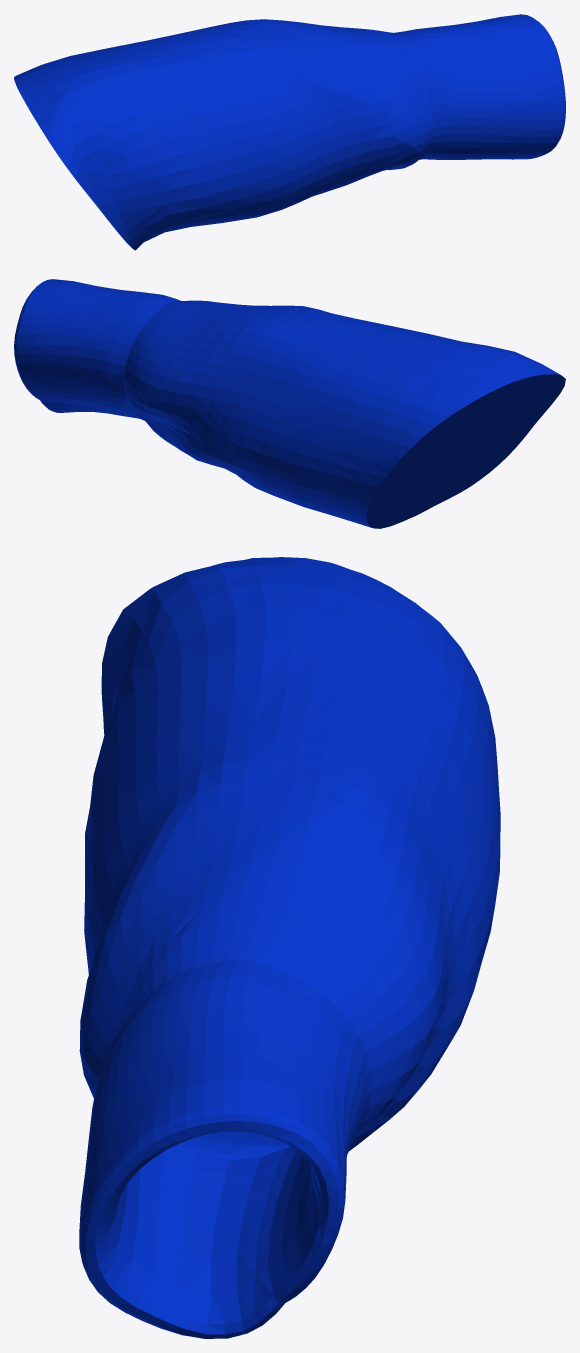
File: lowerarm_l.obj
The picture shows the model from 3 angles, top to bottom: view 1: azimuth 30°, elevation 25°; view 2: azimuth 150°, elevation 25°; view 3: azimuth 270°, elevation 25°; orthographic projection. The views are drawn at different scales.
Parts seen in each view (by area): view 1: lowerarm_l_torso.004_torso, UnrealEdObject_UnrealEdObject_Default_OBJ.002; view 2: lowerarm_l_torso.004_torso, (null), UnrealEdObject_UnrealEdObject_Default_OBJ.002; view 3: lowerarm_l_torso.004_torso, UnrealEdObject_UnrealEdObject_Default_OBJ.002.
Part boxes in pixels (bbox=[...]): lowerarm_l_torso.004_torso: bbox=[19, 14, 565, 245]; UnrealEdObject_UnrealEdObject_Default_OBJ.002: bbox=[14, 74, 145, 250]; lowerarm_l_torso.004_torso: bbox=[14, 279, 539, 524]; (null): bbox=[366, 374, 565, 528]; UnrealEdObject_UnrealEdObject_Default_OBJ.002: bbox=[353, 363, 560, 527]; lowerarm_l_torso.004_torso: bbox=[79, 558, 500, 1338]; UnrealEdObject_UnrealEdObject_Default_OBJ.002: bbox=[101, 557, 498, 781].
Bounding box in the file's own units: 0.2442 × 0.0826 × 0.0884.
